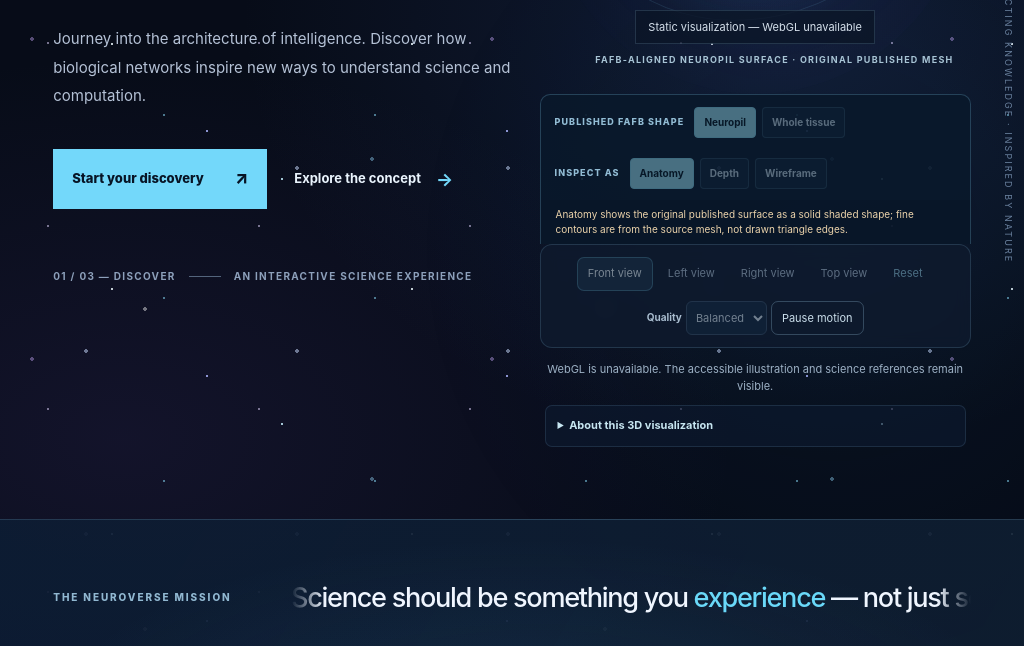
Test: Neuroverse foundation › makes 3D controls available but correctly disables them without WebGL
The image size is (1024, 646).
(page scrolled)
Expected: the button "Top view" is disabled, [810,256,878,290]
Expected: the dropdown labelled "Quality" is disabled, [686,301,767,335]
Click the button "Pause motion" at (817, 318), box [771,300,864,335]
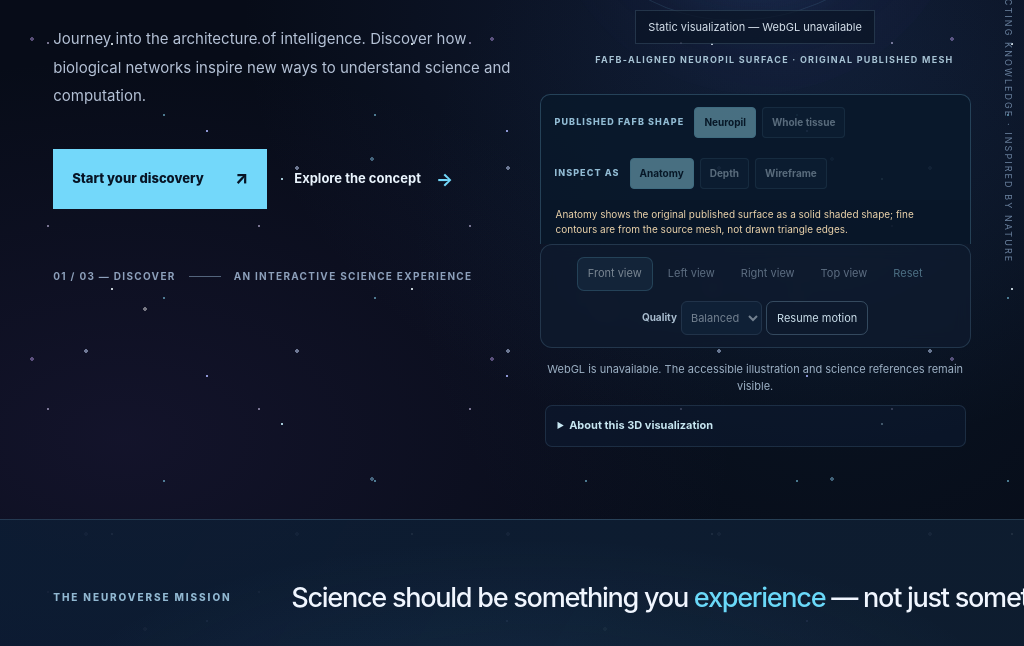
Now the button "Resume motion" is shown, box [766,300,868,335]
